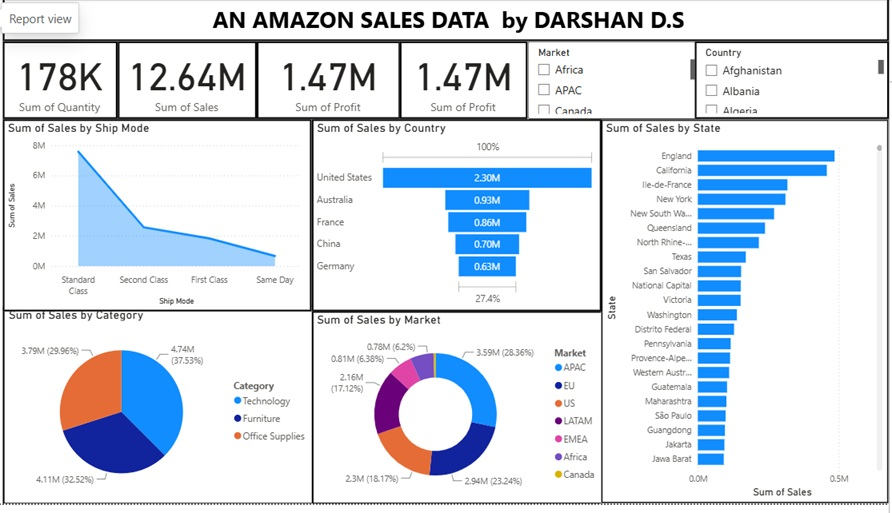

The dashboard page shown, as its layout file describes it:
{"tool":"powerbi","page":{"name":"Amazon Dashboard","canvas":[1280,720],"ordinal":0},"visuals":[{"type":"pieChart","fields":{"Category":["Orders.Category"],"Y":["Sum(Orders.Sales)"]},"box":[19.9,436.6,447.8,283.6],"z":0},{"type":"donutChart","fields":{"Category":["Orders.Market"],"Y":["Sum(Orders.Sales)"]},"box":[459,445.3,420.5,274.9],"z":1000},{"type":"areaChart","fields":{"Category":["Orders.Ship Mode"],"Y":["Sum(Orders.Sales)"]},"box":[19.9,171.7,439.1,273.7],"z":2000},{"type":"clusteredBarChart","fields":{"Category":["Orders.State"],"Y":["Sum(Orders.Sales)"]},"box":[870.8,171.7,409.3,547.3],"z":3000},{"type":"funnel","fields":{"Category":["Orders.Country"],"Y":["Sum(Orders.Sales)"]},"box":[459,171.7,411.8,273.7],"z":4000},{"type":"textbox","box":[19.9,0,1260.1,61],"z":5000},{"type":"card","fields":{"Values":["Sum(Orders.Quantity)"]},"box":[19.9,61,163,110.7],"z":6000},{"type":"card","fields":{"Values":["Sum(Orders.Sales)"]},"box":[182.9,61,197.8,110.7],"z":7000},{"type":"card","fields":{"Values":["Sum(Orders.Profit)"]},"box":[380.7,61,204,110.7],"z":8000},{"type":"card","fields":{"Values":["Sum(Orders.Profit)"]},"box":[584.7,61,181.6,110.7],"z":9000},{"type":"slicer","fields":{"Values":["Orders.Market"]},"box":[766.3,61,246.3,110.7],"z":10000},{"type":"slicer","fields":{"Values":["Orders.Country"]},"box":[1003.9,61,276.2,110.7],"z":11000}]}

Visuals, with their boxes in screenshot pixels (x1, y1, x2, y2):
pieChart - Orders.Category x Sum(Orders.Sales): l=0, t=304, r=315, b=506
donutChart - Orders.Market x Sum(Orders.Sales): l=308, t=310, r=608, b=506
areaChart - Orders.Ship Mode x Sum(Orders.Sales): l=0, t=115, r=308, b=310
clusteredBarChart - Orders.State x Sum(Orders.Sales): l=602, t=115, r=891, b=505
funnel - Orders.Country x Sum(Orders.Sales): l=308, t=115, r=602, b=310
textbox: l=0, t=0, r=891, b=36
card - Sum(Orders.Quantity): l=0, t=36, r=112, b=115
card - Sum(Orders.Sales): l=112, t=36, r=253, b=115
card - Sum(Orders.Profit): l=253, t=36, r=398, b=115
card - Sum(Orders.Profit): l=398, t=36, r=527, b=115
slicer - Orders.Market: l=527, t=36, r=703, b=115
slicer - Orders.Country: l=697, t=36, r=891, b=115
